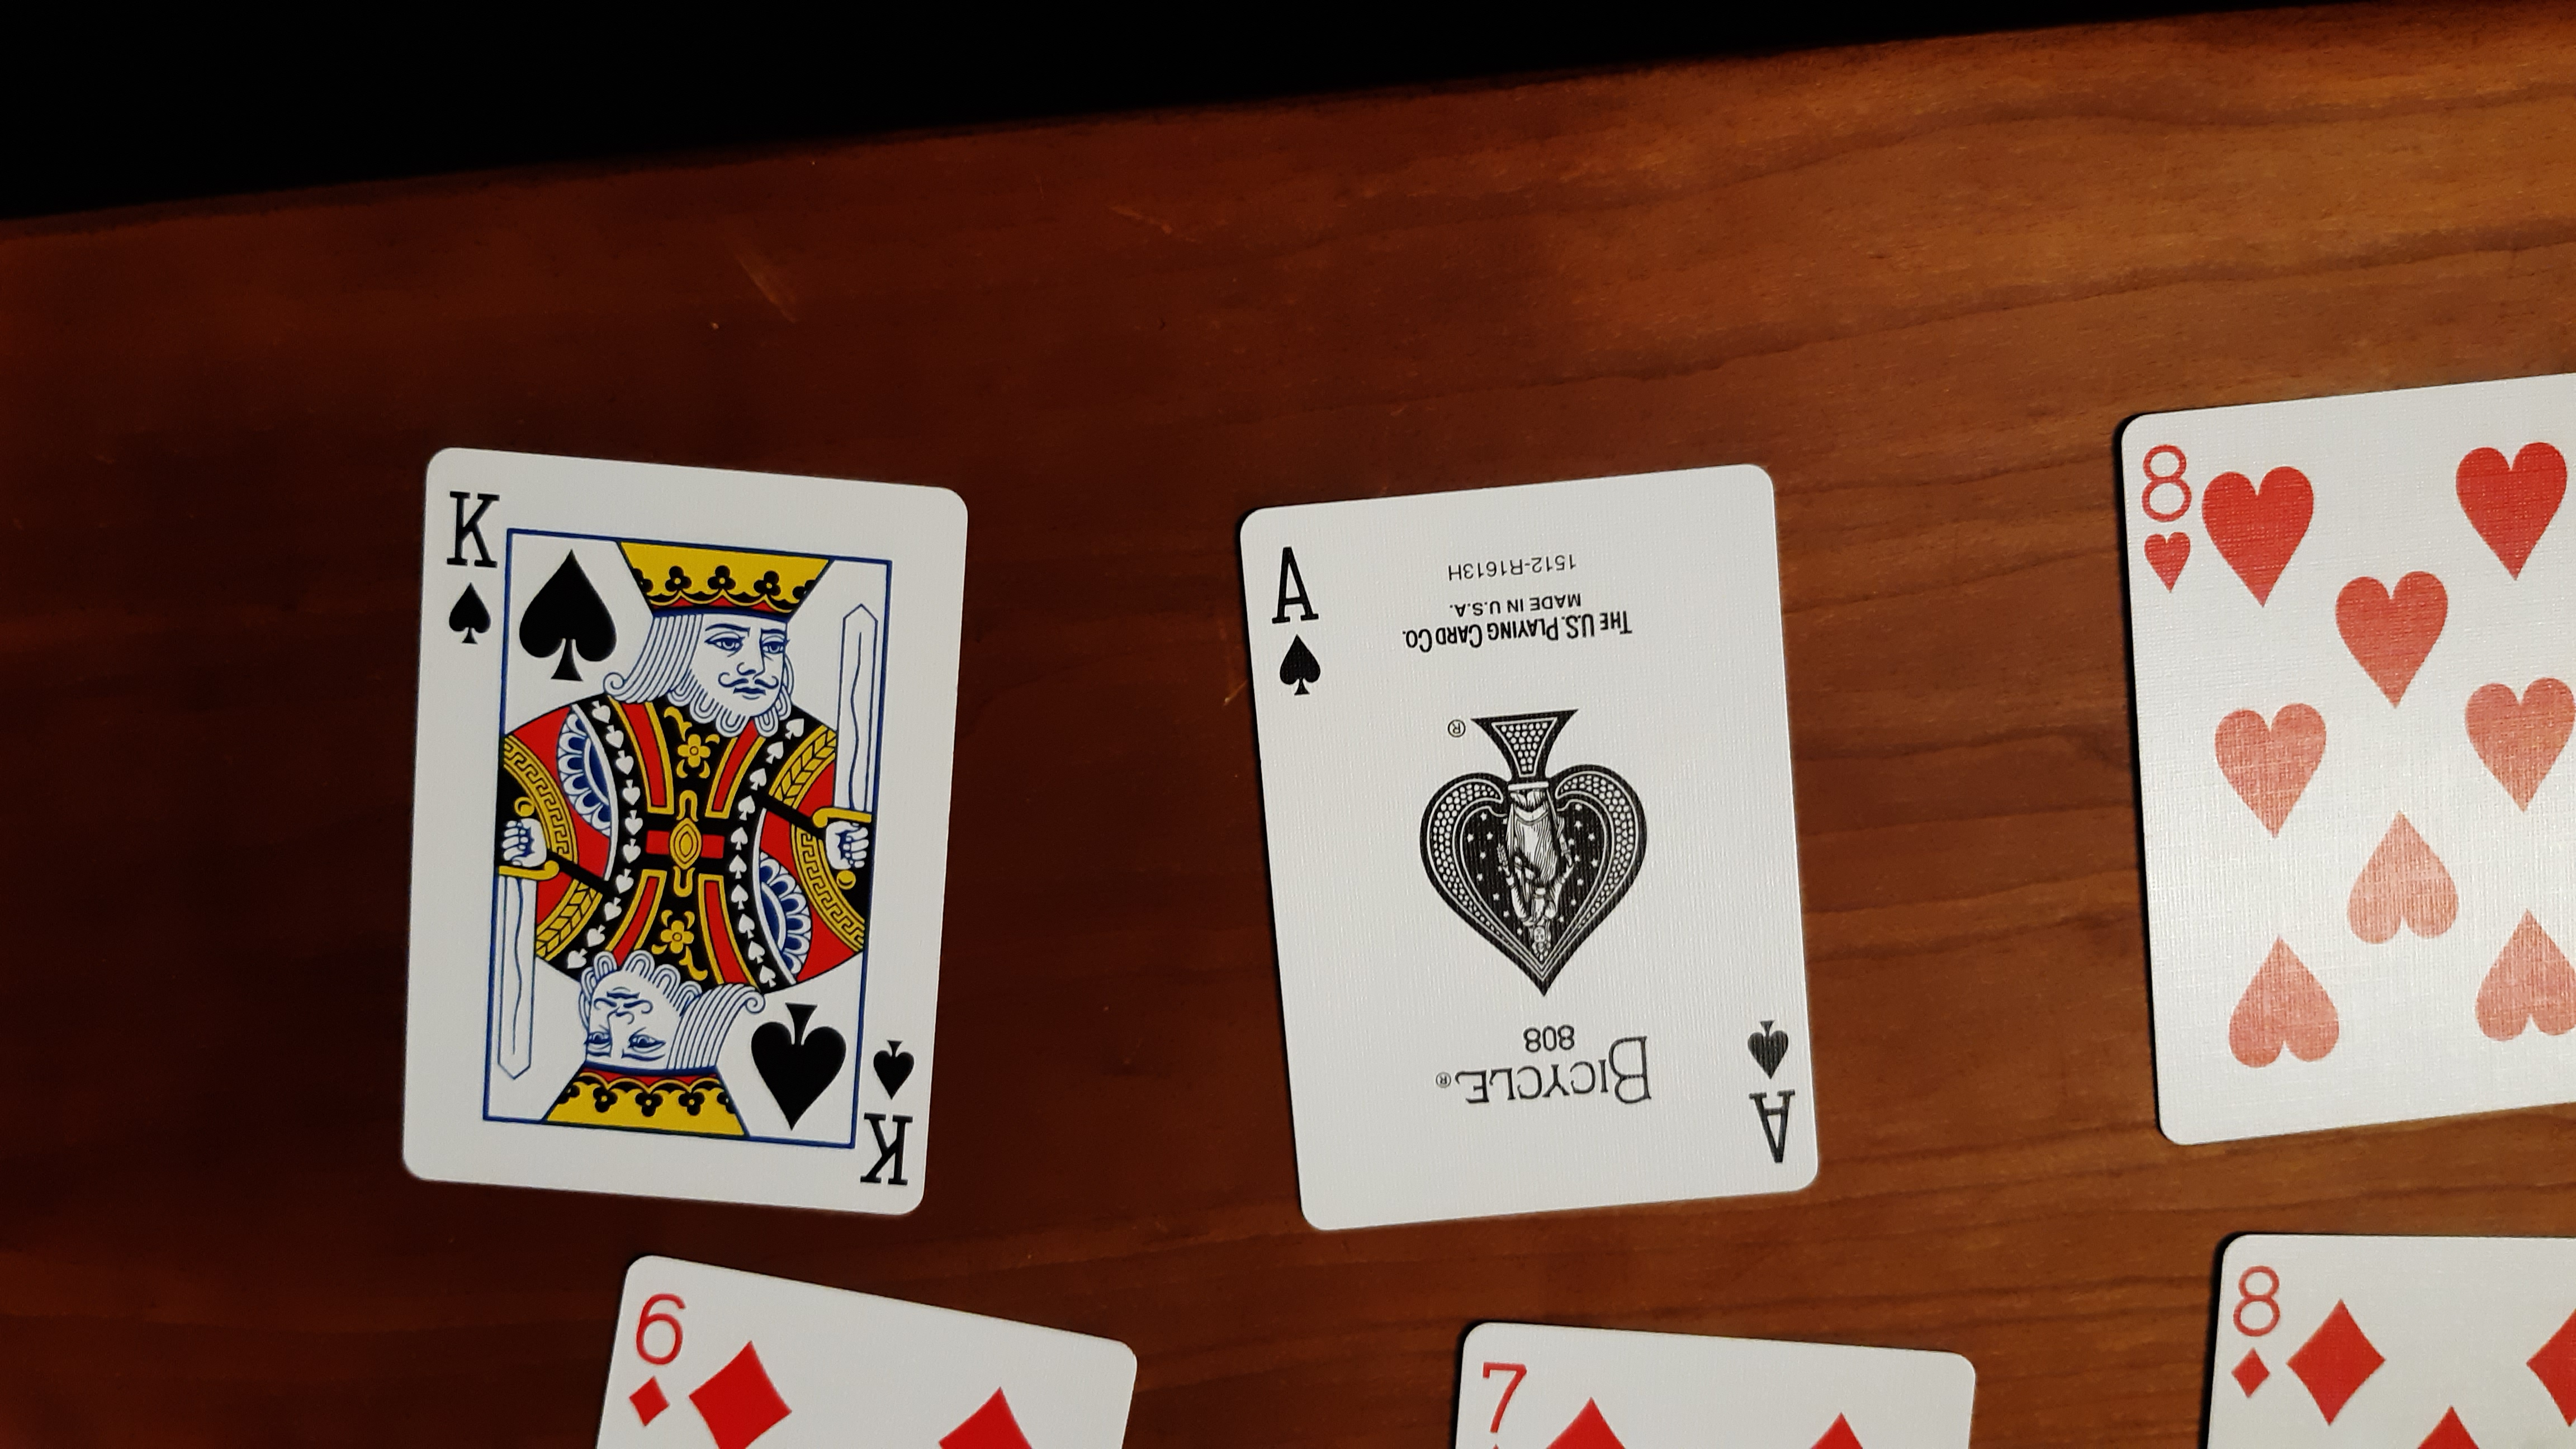Black_Spade_Ace: (1267, 536, 1338, 706), (1739, 1010, 1808, 1171)
Black_Spade_King: (430, 481, 504, 656), (849, 1028, 924, 1196)
Red_Diamond_7: (1474, 1348, 1918, 1449)
Red_Diamond_8: (2226, 1261, 2291, 1405)
Red_Heart_8: (2132, 444, 2197, 602)
